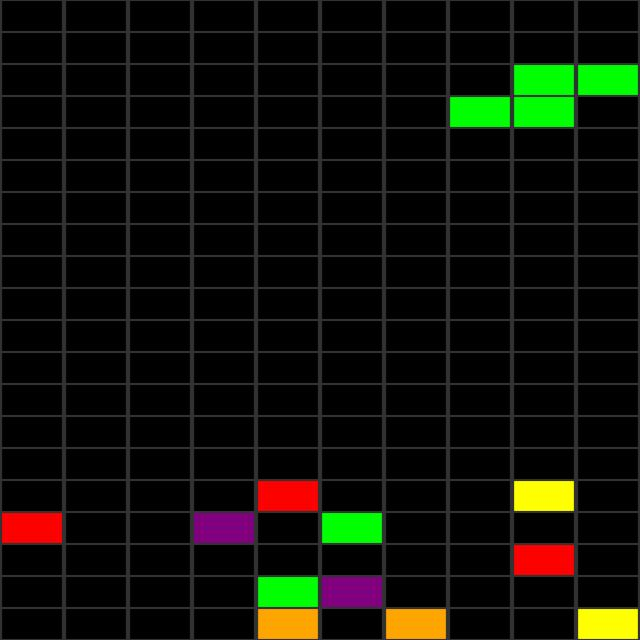Tetrimino_T: (450, 64, 640, 128)
